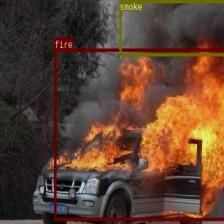fire: (53, 47, 224, 219)
smoke: (119, 0, 224, 56)
